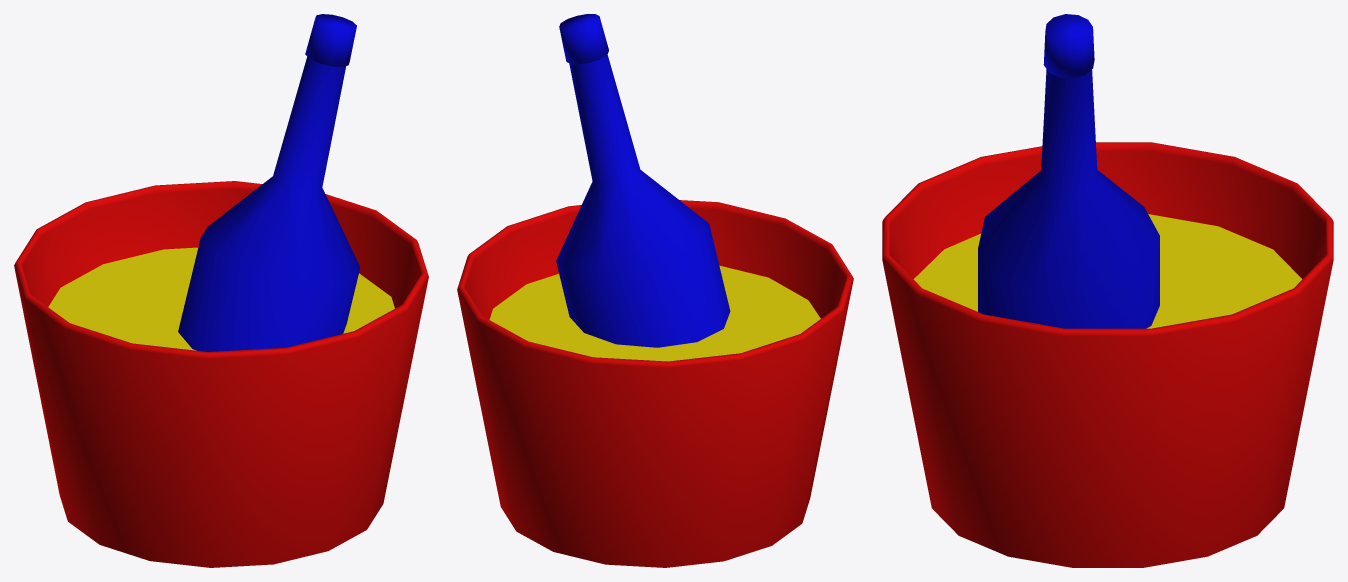
The model's file is cava.fbx.
The picture shows the model from 3 angles, left to right: view 1: azimuth 30°, elevation 25°; view 2: azimuth 150°, elevation 25°; view 3: azimuth 270°, elevation 25°; orthographic projection. The views are drawn at different scales.
Visible parts, largest first — view 1: Caba; view 2: Caba; view 3: Caba.
Boxes of the visible parts, x1,y1,x2,y2 form: Caba: (14,14,428,567); Caba: (457,14,853,567); Caba: (882,14,1333,567).
Size of the model in its own units: 0.7269 by 0.9277 by 0.7269.
